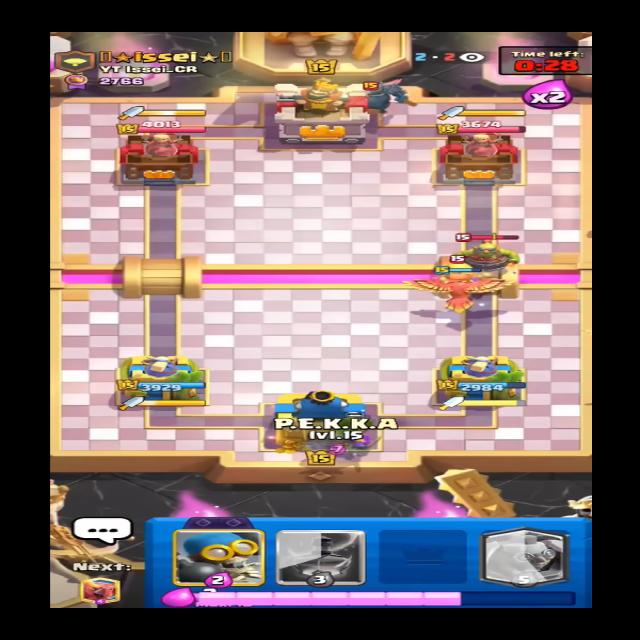goblin-demolisher: (445, 228, 529, 271)
pekka: (338, 74, 418, 123)
